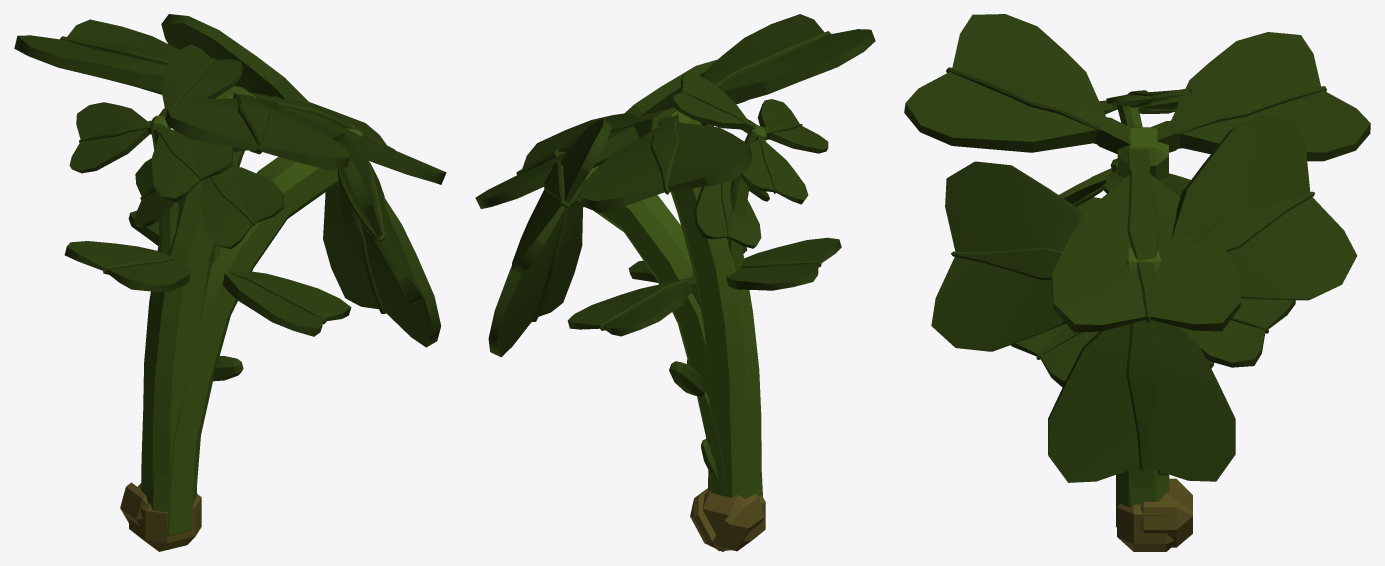
Rendered from CloverModels.fbx.
3 views of the same model, side by side, from view 1: azimuth 30°, elevation 25°; view 2: azimuth 150°, elevation 25°; view 3: azimuth 270°, elevation 25° (orthographic). The views are drawn at different scales.
Visible parts, largest first — view 1: CloverFullGrown, CloverDecaying, CloverAdolescent, CloverSeed, CloverBudding; view 2: CloverFullGrown, CloverDecaying, CloverAdolescent, CloverBudding, CloverSeed; view 3: CloverDecaying, CloverFullGrown, CloverAdolescent, CloverBudding, CloverSeed.
Part boxes in pixels (x1,y1,x2,y2): CloverFullGrown: (14, 19, 446, 496); CloverDecaying: (134, 14, 440, 536); CloverAdolescent: (64, 210, 351, 336); CloverSeed: (129, 483, 201, 551); CloverBudding: (120, 356, 243, 526); CloverFullGrown: (475, 14, 875, 498); CloverDecaying: (488, 59, 769, 497); CloverAdolescent: (567, 237, 841, 336); CloverBudding: (669, 359, 764, 551); CloverSeed: (701, 439, 765, 551); CloverDecaying: (931, 114, 1357, 527); CloverFullGrown: (904, 14, 1370, 507); CloverAdolescent: (1010, 197, 1295, 387); CloverBudding: (1140, 358, 1214, 547); CloverSeed: (1117, 470, 1182, 551).
Bounding box in the file's own units: 30.6 × 42.92 × 36.28.
1 material, 1 textured.
